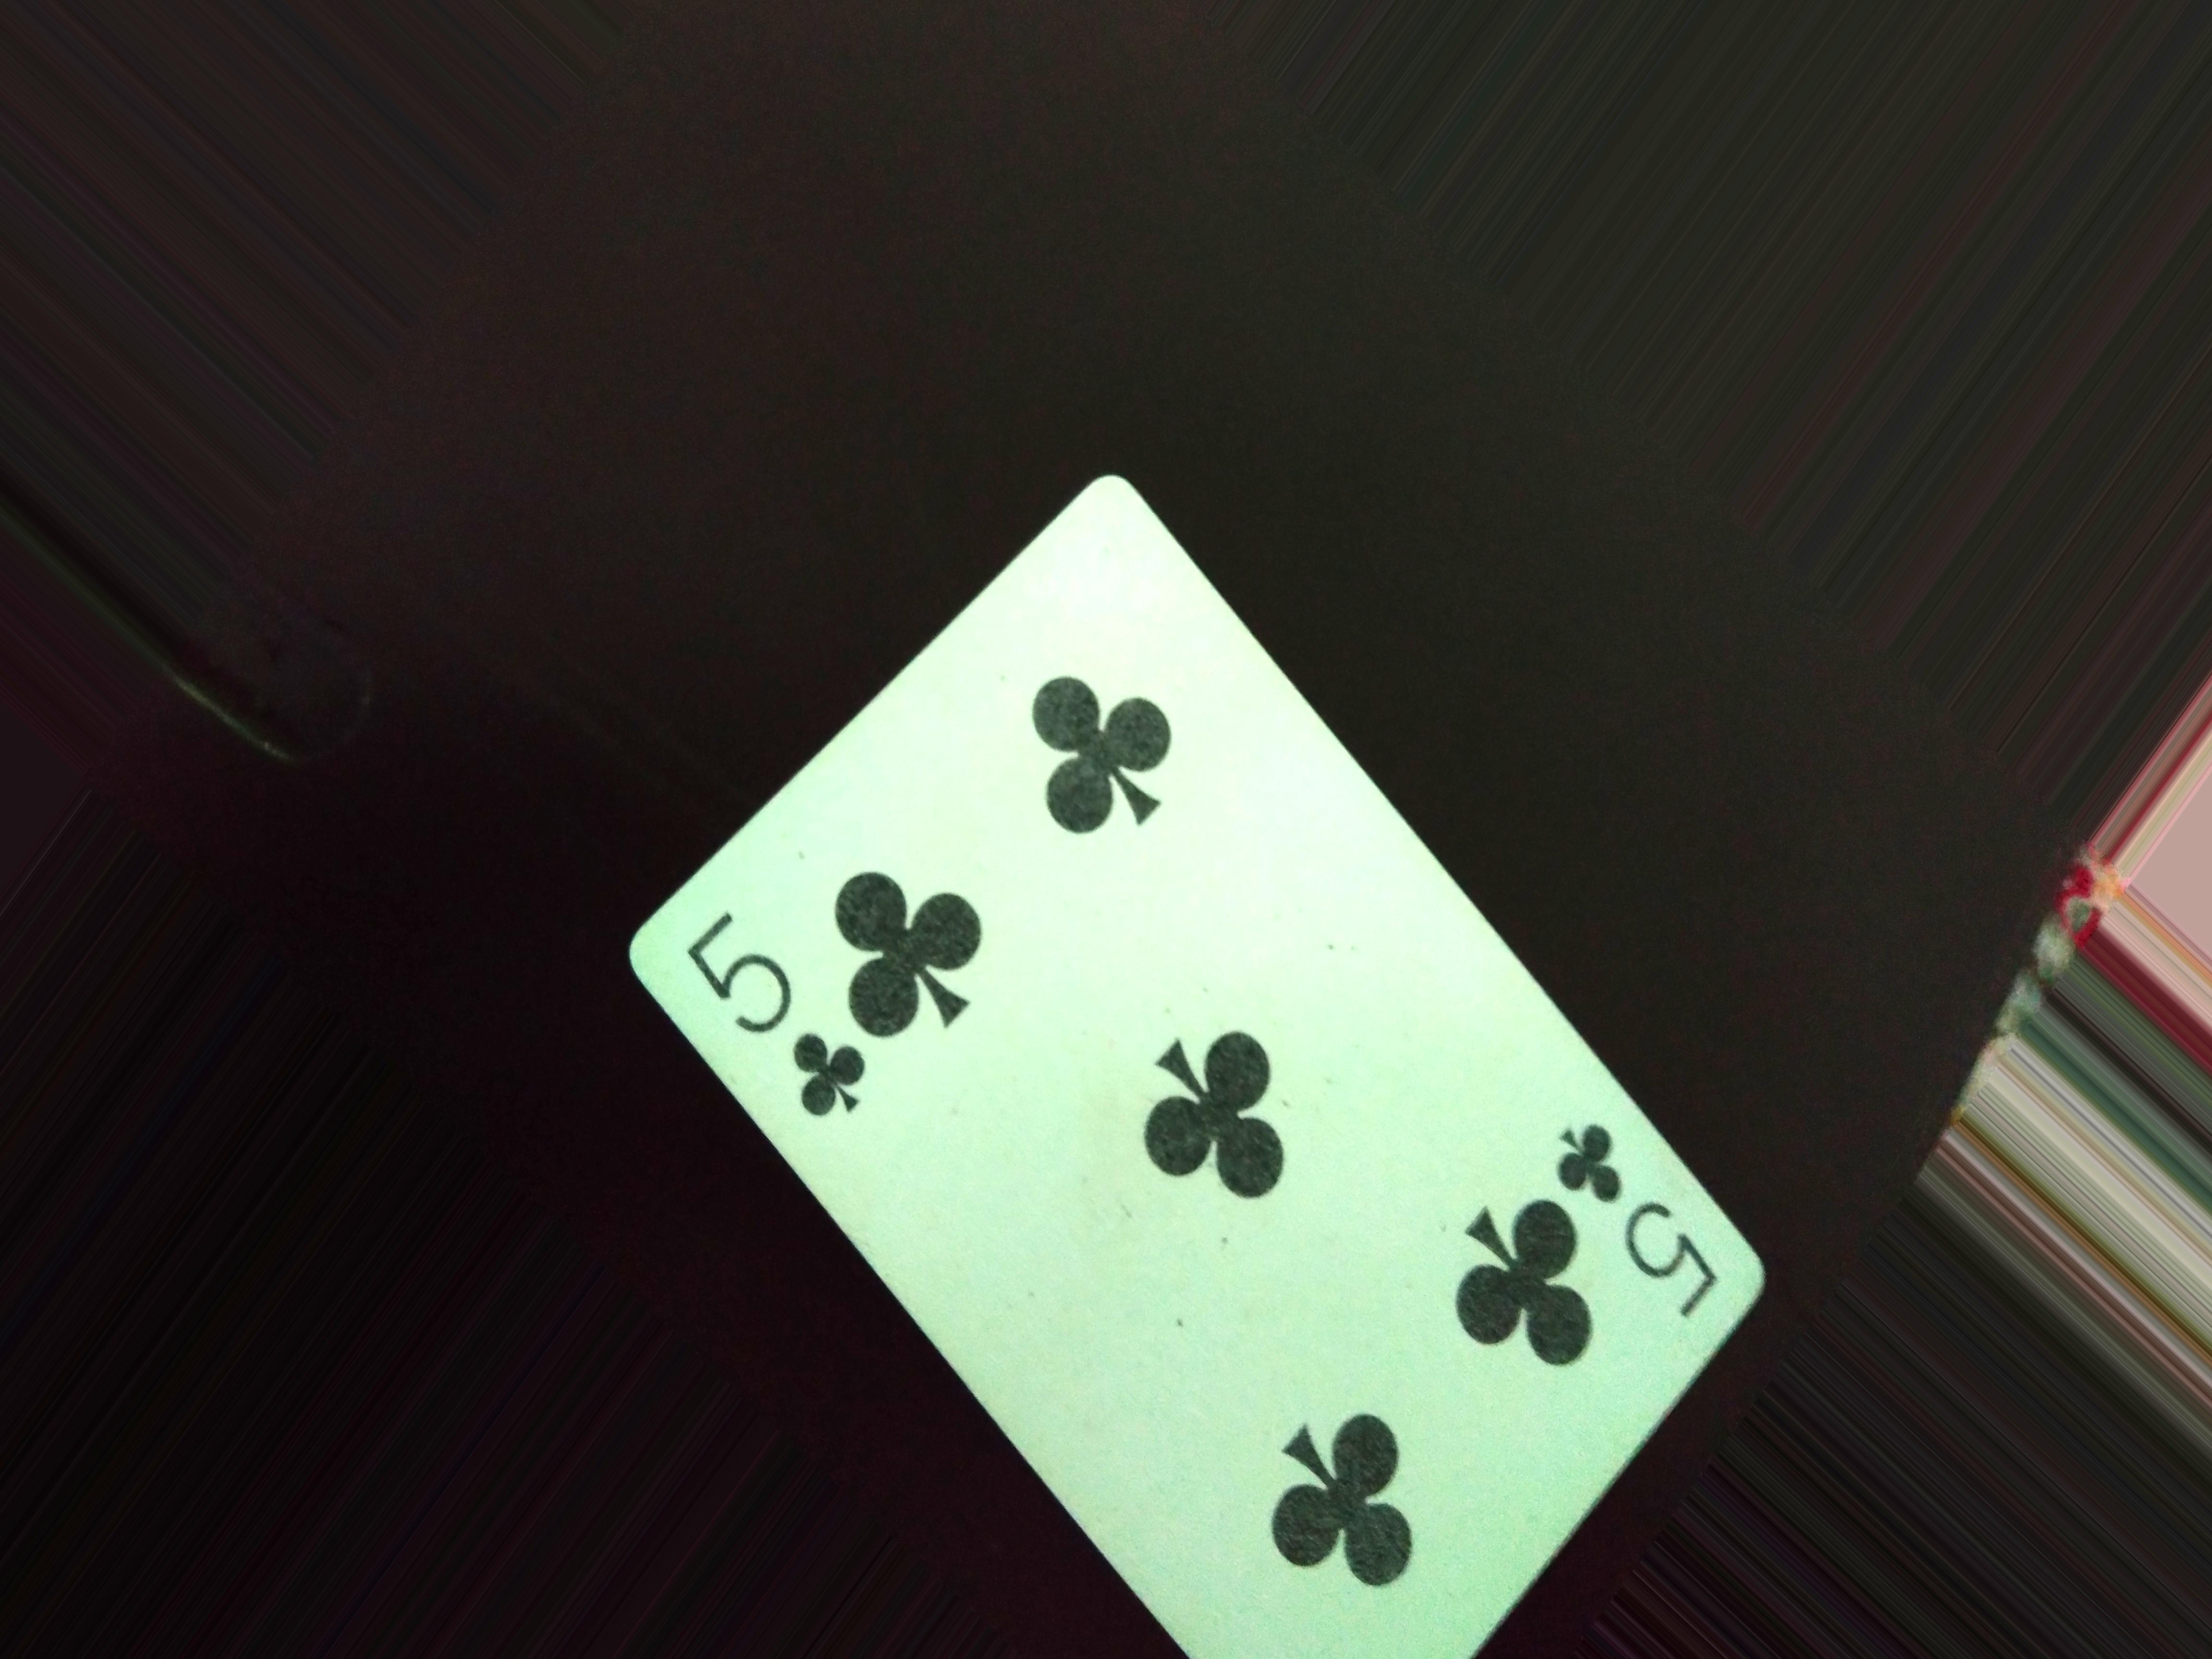5C: (1550, 1119, 1750, 1337)
